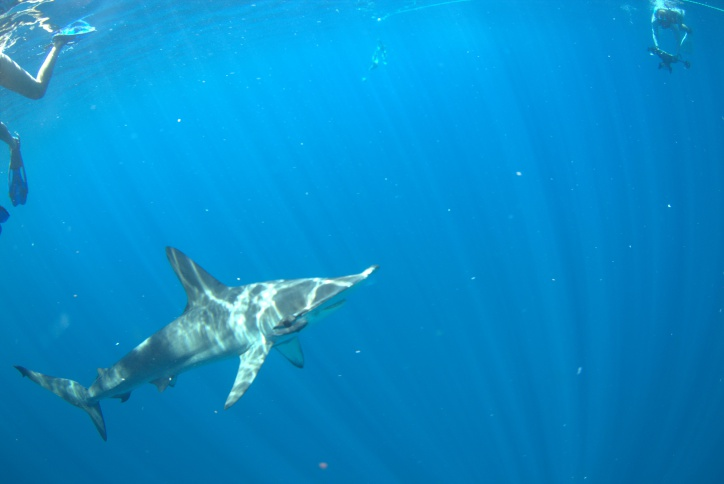Hammer: (11, 223, 418, 451), (104, 201, 287, 284)
